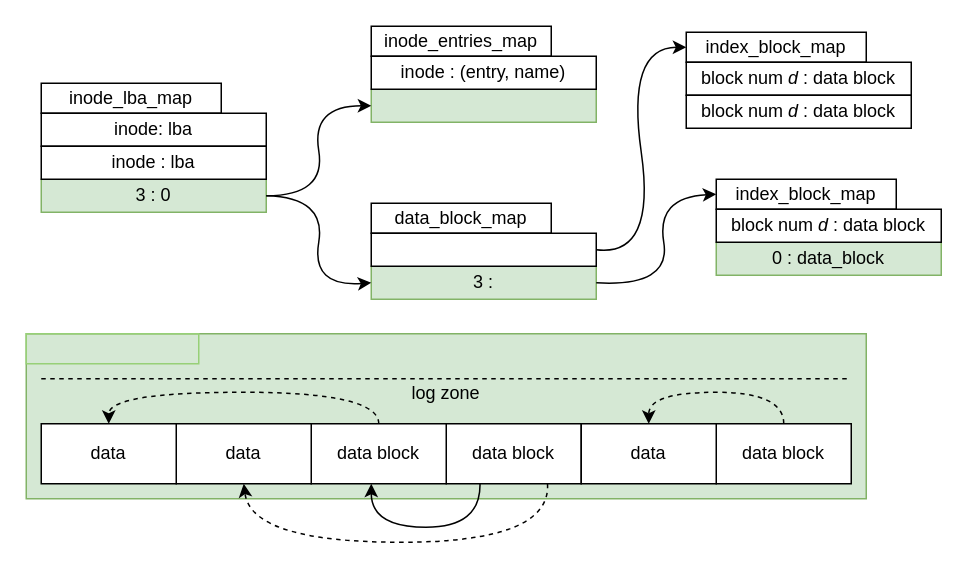
Image size: 968x569. Some labels were removed from this diagram. The shapes that lost their labels are listed below. From the top down, each one's centre as x and y in pixels, then its label:
(x=483, y=105): 3 : (entry, ".gitlab-ci.yml")
(x=483, y=249): inode :
(x=112, y=348): FluffleFS
